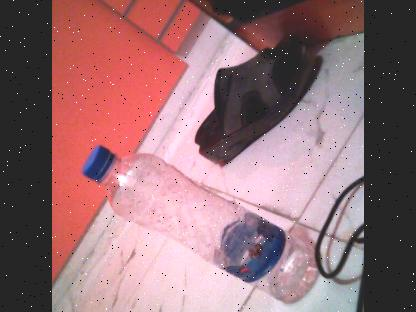Plastic Bottle: (82, 144, 318, 304)
